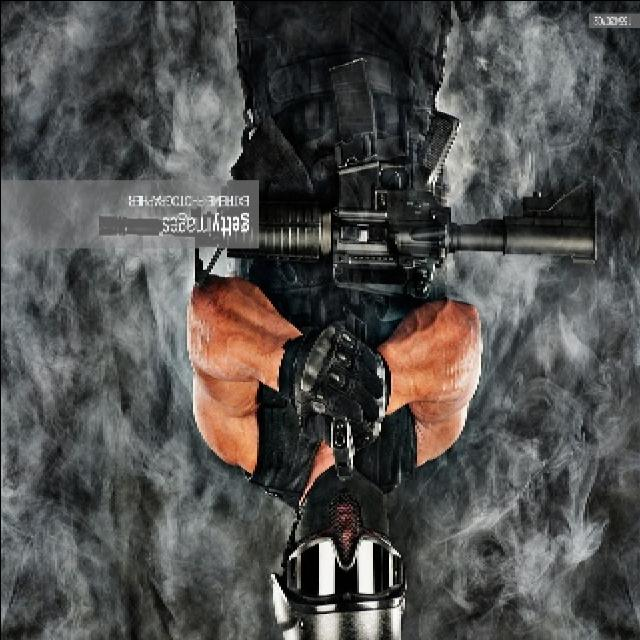rifle: (71, 65, 615, 286)
